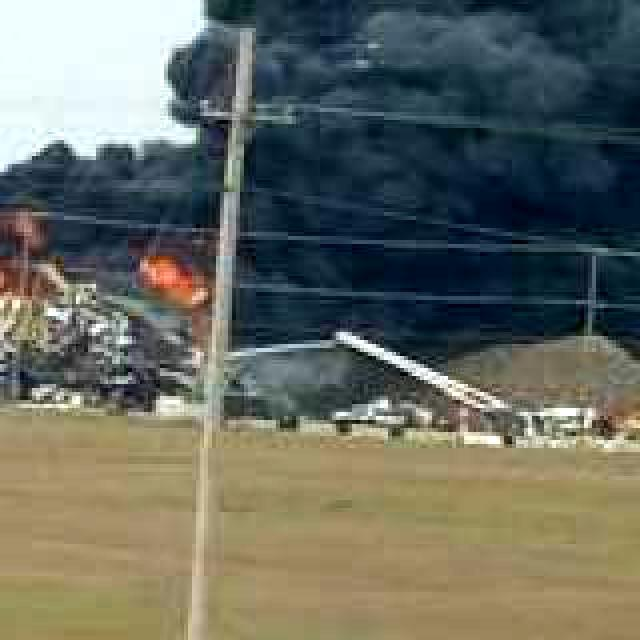smoke: (4, 0, 640, 256)
